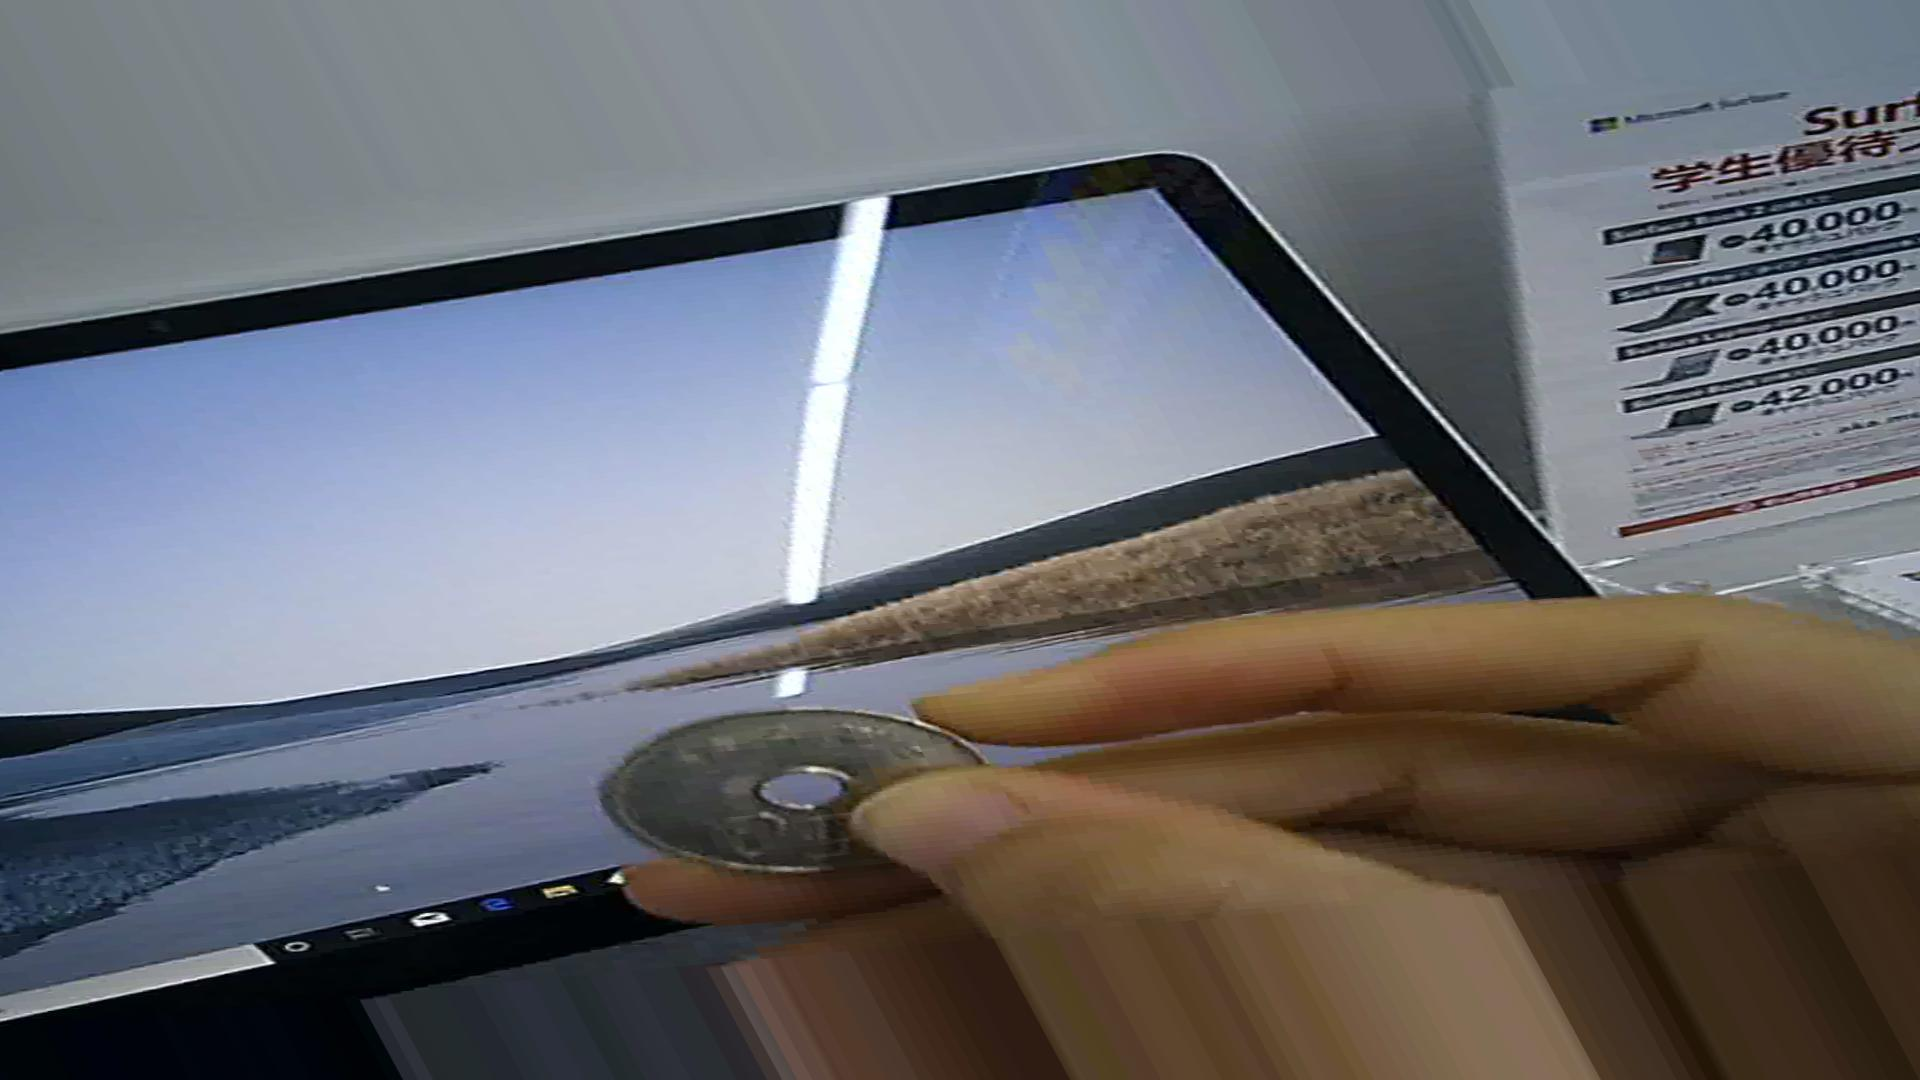50 Yen: (604, 698, 988, 887)
